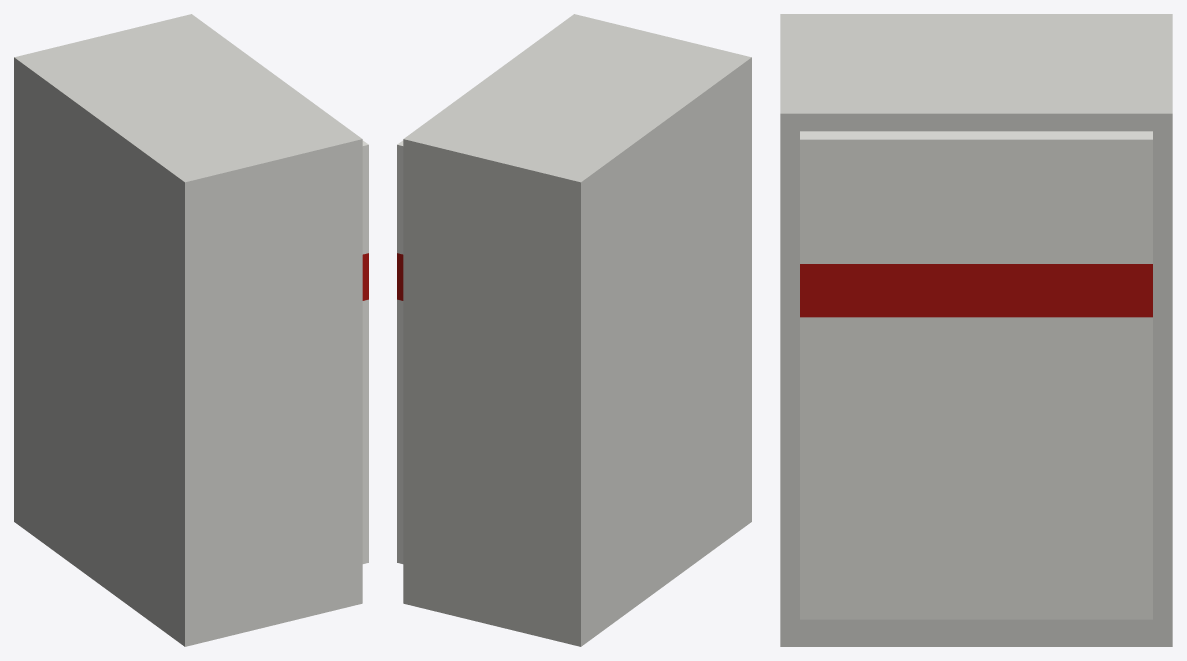
The model's file is air_ambulance_locker.glb.
3 renders of one model, left to right at view 1: azimuth 30°, elevation 25°; view 2: azimuth 150°, elevation 25°; view 3: azimuth 270°, elevation 25°, orthographic. The views are drawn at different scales.
Parts seen in each view (by area): view 1: body:compound; view 2: body:compound; view 3: body:compound.
Boxes of the visible parts, x1,y1,x2,y2 form: body:compound: [14, 14, 368, 646]; body:compound: [397, 14, 751, 646]; body:compound: [780, 14, 1172, 646].
Size of the model in its own units: 0.4062 by 0.9375 by 0.625.
